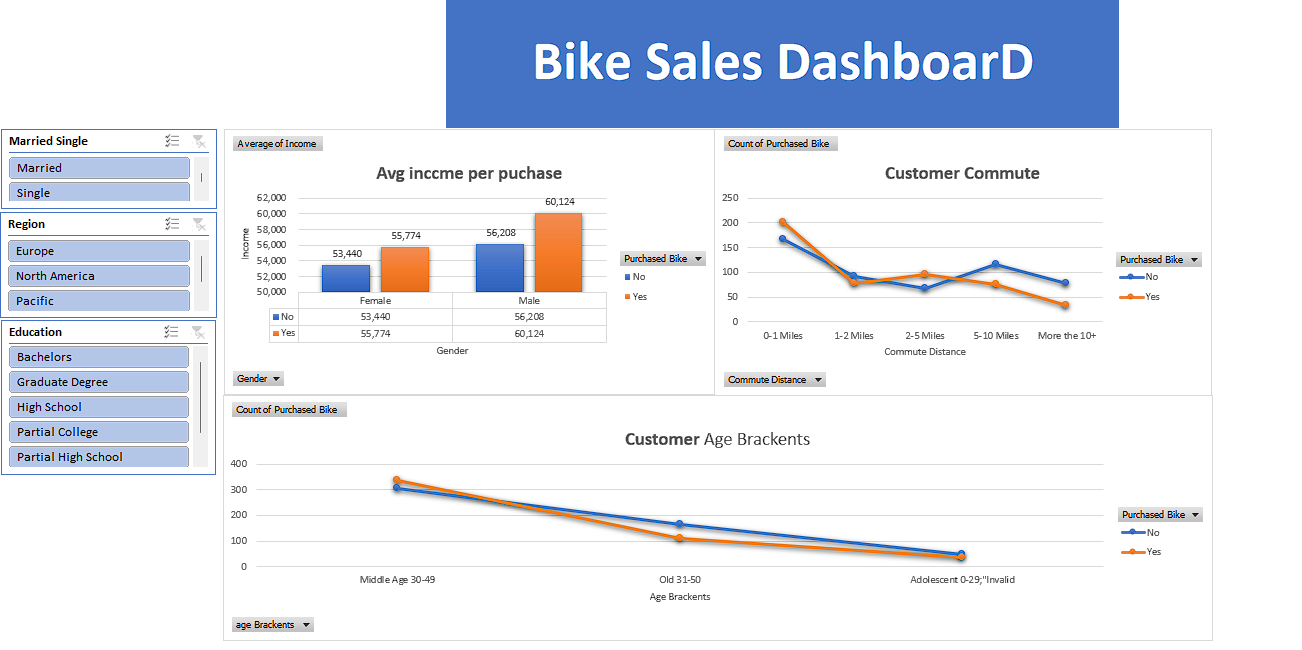

This screenshot's page, from the dashboard's own definition file:
{"tool":"tableau","page":{"name":"Dashboard 1","canvas":[1366,768],"ordinal":0},"visuals":[{"type":"worksheet","title":"Sheet 3","mark":"Automatic","rows":["price"],"cols":["bedrooms"],"box":[8,8,993.3,376]},{"type":"worksheet","title":"Sheet 4","mark":"Automatic","rows":["bedrooms"],"box":[1001.3,8,264.7,376]},{"type":"legend","title":"Sheet 1","param":"[federated.0fx8y5x041icii1cmw7401qg47rl].[none:zipcode:ok]","box":[1266,8,92,597]},{"type":"worksheet","title":"Sheet 2","mark":"Automatic","rows":["price (Calendar)"],"cols":["date"],"box":[8,384,675,376]},{"type":"worksheet","title":"Sheet 1","mark":"Automatic","rows":["price"],"cols":["zipcode"],"box":[683,384,583,376]}]}

Visuals, with their boxes on the page's 1366x768 design canvas (x1, y1, x2, y2). These are canvas units, not pixel positions in the 1302x650 screenshot, which may show the page scaled, cropped or inside an application window:
"Sheet 3" worksheet: BBox(8, 8, 1001, 384)
"Sheet 4" worksheet: BBox(1001, 8, 1266, 384)
"Sheet 1" legend: BBox(1266, 8, 1358, 605)
"Sheet 2" worksheet: BBox(8, 384, 683, 760)
"Sheet 1" worksheet: BBox(683, 384, 1266, 760)
